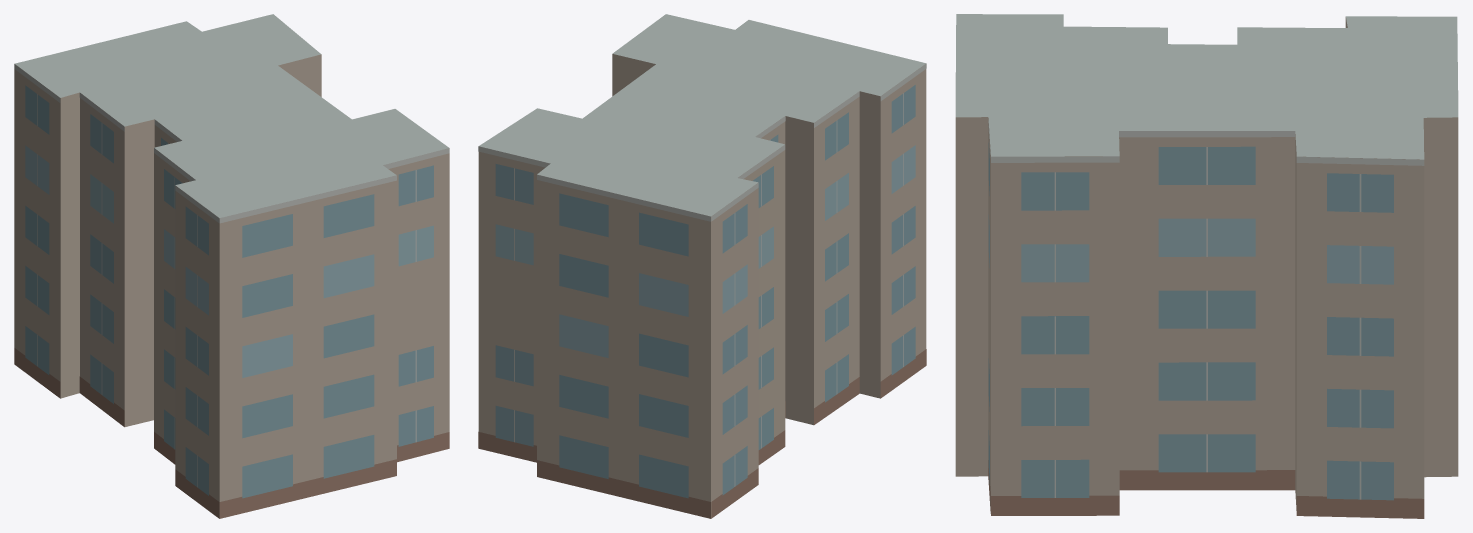
Rendered from survey-upis-32872898.glb.
3 renders of one model, left to right at view 1: azimuth 30°, elevation 25°; view 2: azimuth 150°, elevation 25°; view 3: azimuth 270°, elevation 25°, orthographic. The views are drawn at different scales.
Visible parts, largest first — view 1: survey-upis-32872898.tmp; view 2: survey-upis-32872898.tmp; view 3: survey-upis-32872898.tmp.
Part boxes in pixels (x1,y1,x2,y2): survey-upis-32872898.tmp: [14, 14, 449, 518]; survey-upis-32872898.tmp: [478, 14, 926, 518]; survey-upis-32872898.tmp: [955, 14, 1458, 518].
Bounding box in the file's own units: 12.09 × 13.9 × 17.65.
